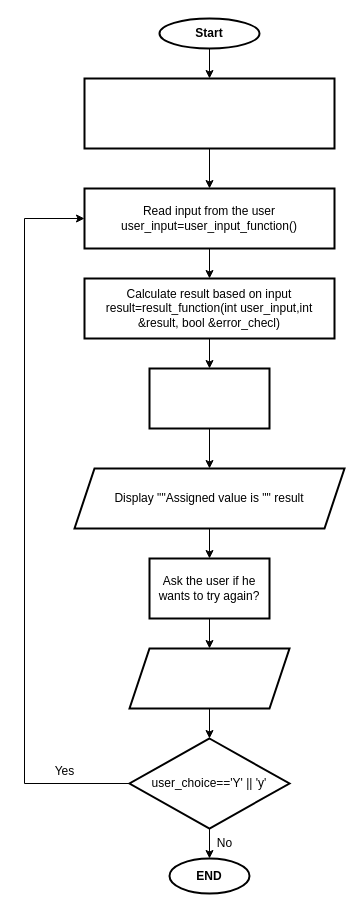
Some shapes in this 363 by 911 pixel diagram are drawn without their labels. The shapes that lost their labels are listed below. From the top down, each one's centre as x and y in pixels, then its label:
the point at 209,113: Declare int user_input,result,bool error_check=false and char user_choice
the point at 209,398: error_check ? (False)
the point at 209,678: Read user_choice
